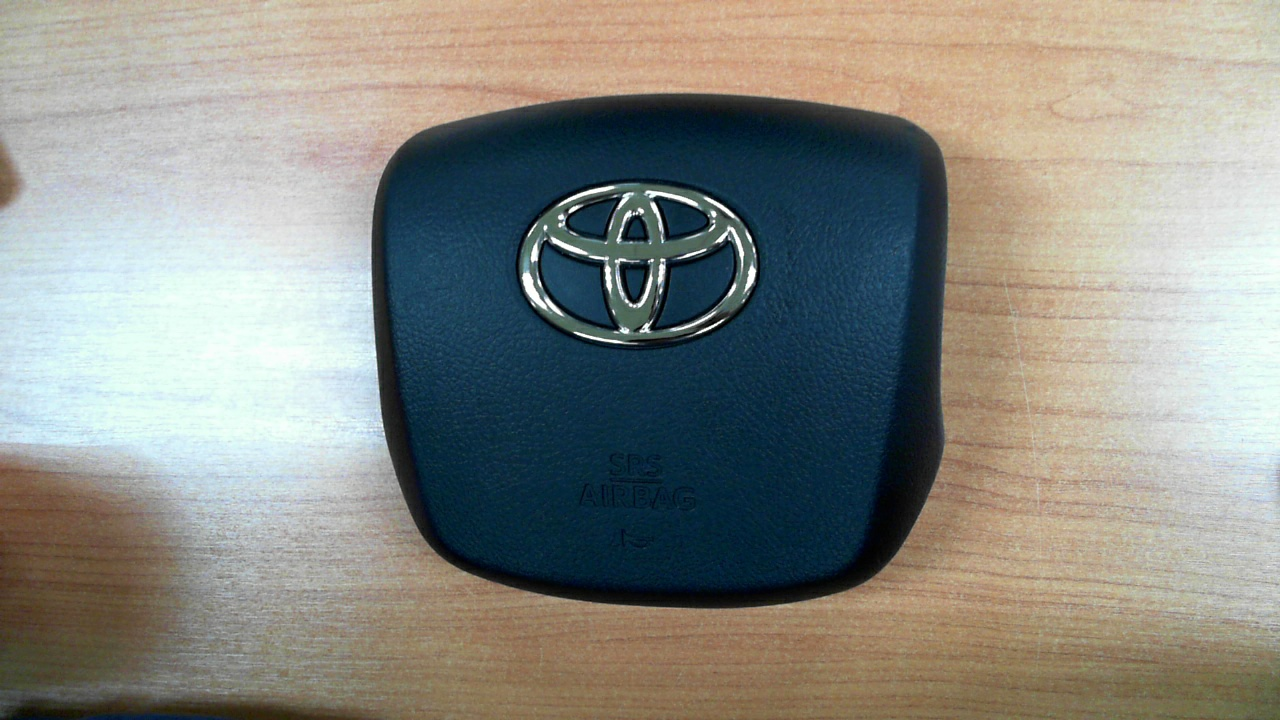Airbag: (332, 93, 964, 626)
